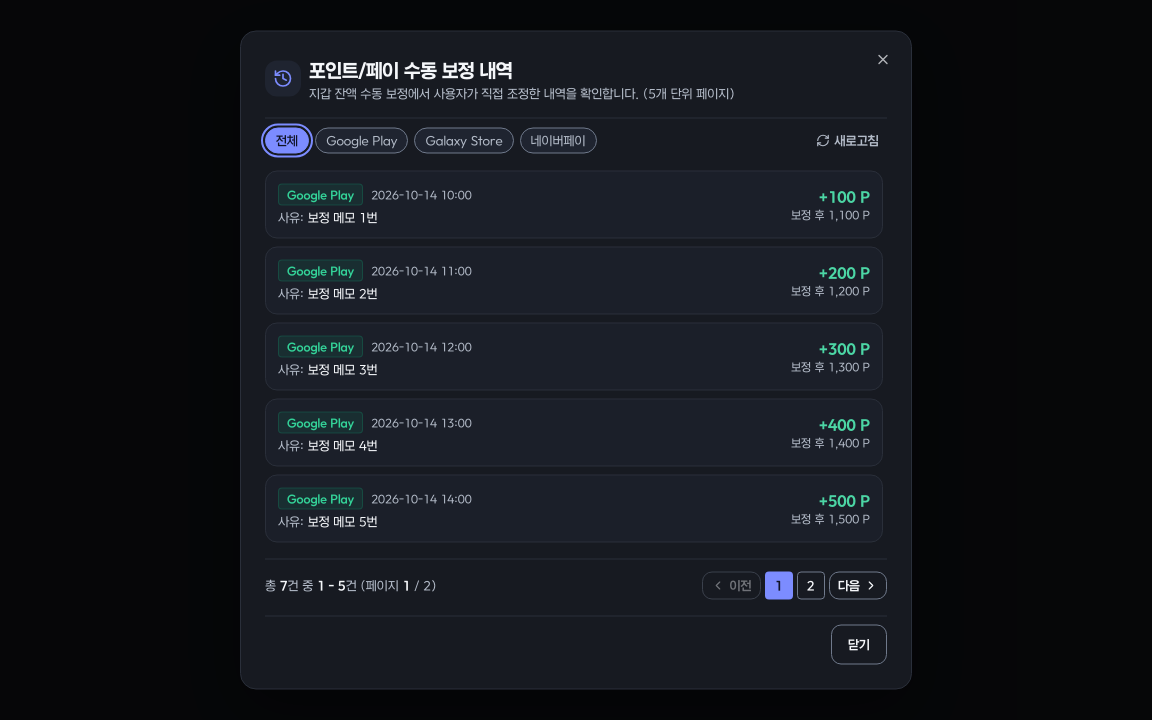
Test: StoreWalletAdjustHistoryModal › paginates records by 5 items per page and navigates between pages
Expected: the text "보정 메모 1번" is shown, [308, 210, 378, 224]
Expected: the text "보정 메모 5번" is shown, [308, 514, 378, 528]
Click the button with aria-label "다음 페이지" at (858, 586), box [829, 572, 887, 600]
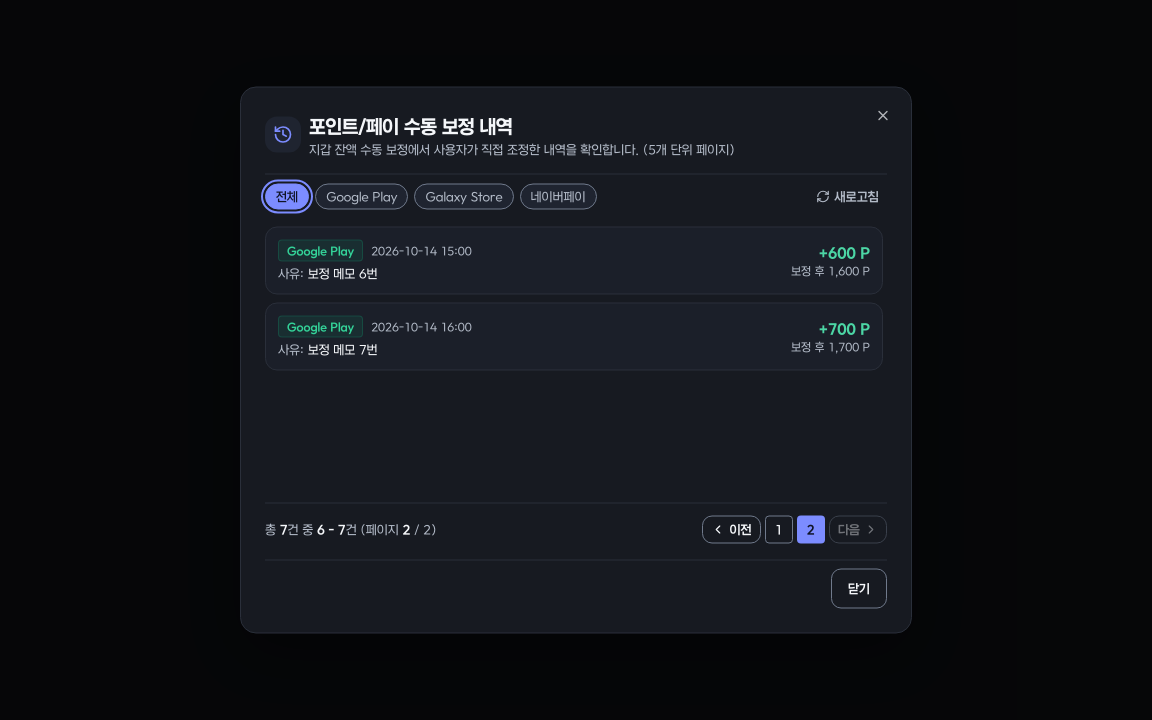
Expected: the text "보정 메모 6번" is shown, [308, 266, 378, 280]
Expected: the text "보정 메모 7번" is shown, [308, 342, 378, 356]
Expected: the text "보정 메모 1번" is gone
Click the button with aria-label "이전 페이지" at (732, 530), box [702, 516, 761, 544]
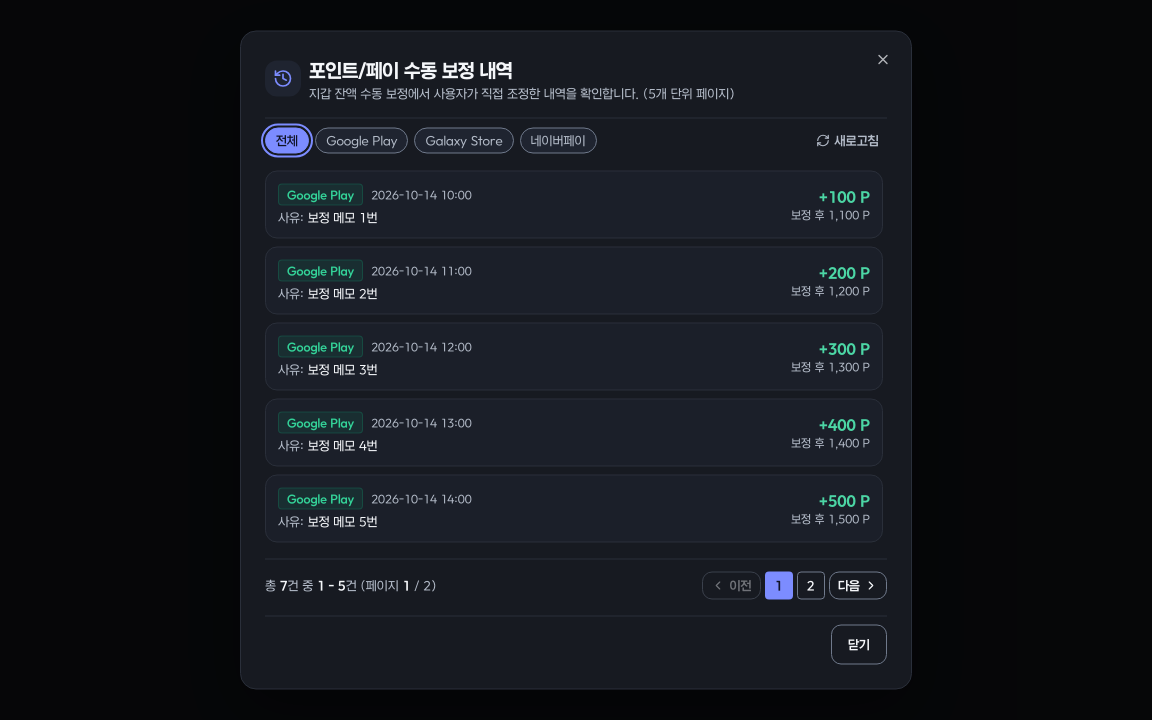
Expected: the text "보정 메모 1번" is shown, [308, 210, 378, 224]
Expected: the text "보정 메모 6번" is gone
